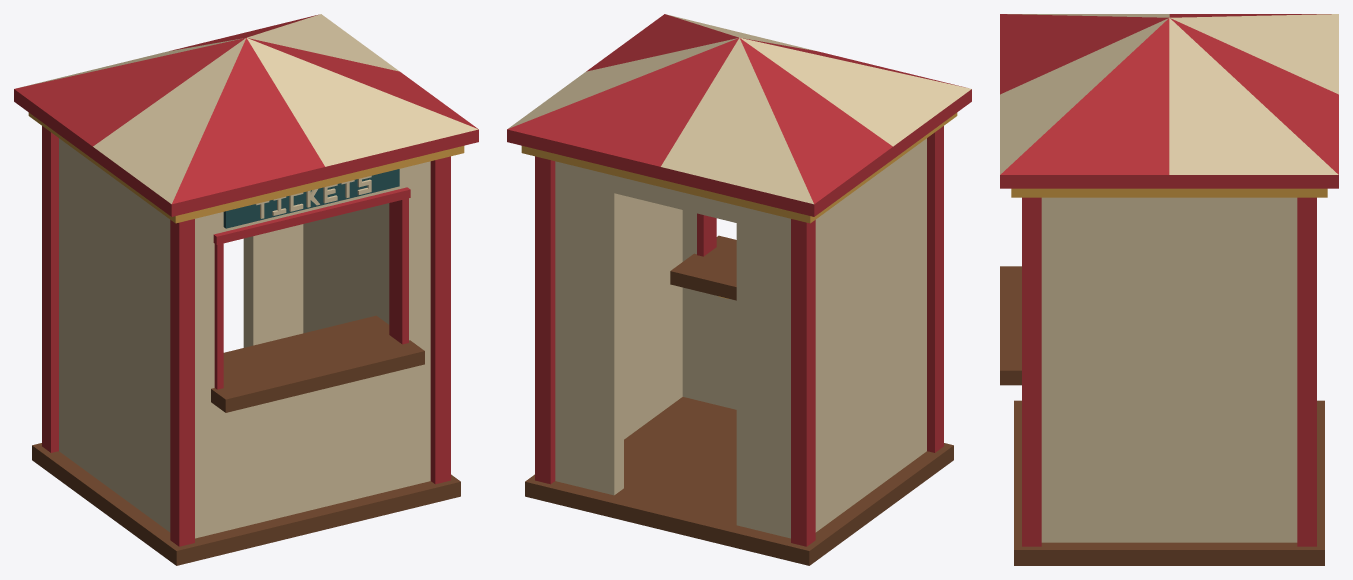
3 renders of one model, left to right at view 1: azimuth 30°, elevation 25°; view 2: azimuth 150°, elevation 25°; view 3: azimuth 270°, elevation 25°, orthographic. The views are drawn at different scales.
Parts seen in each view (by area): view 1: Body_ThickOpenWallShell, Roof_StripedHipSolid, Counter_InsideAndHandover, Base_GroundPlinth, Post_LeftFront, Post_RightFront, Post_LeftBack, Roof_ThickCeilingCornice, WindowFrame_Right, Sign_SeatedBoard, WindowFrame_Header, WindowFrame_Left; view 2: Body_ThickOpenWallShell, Roof_StripedHipSolid, Base_GroundPlinth, Post_LeftBack, Post_RightBack, Post_LeftFront, Roof_ThickCeilingCornice, Counter_InsideAndHandover, WindowFrame_Right; view 3: Body_ThickOpenWallShell, Roof_StripedHipSolid, Base_GroundPlinth, Post_RightBack, Post_RightFront, Roof_ThickCeilingCornice, Counter_InsideAndHandover.
Part boxes in pixels (left/top/right/bottom): Body_ThickOpenWallShell: left=59, top=138, right=430, bottom=538; Roof_StripedHipSolid: left=14, top=14, right=478, bottom=216; Counter_InsideAndHandover: left=211, top=315, right=424, bottom=412; Base_GroundPlinth: left=32, top=443, right=460, bottom=565; Post_LeftFront: left=170, top=219, right=194, bottom=546; Post_RightFront: left=430, top=156, right=450, bottom=484; Post_LeftBack: left=42, top=126, right=58, bottom=452; Roof_ThickCeilingCornice: left=28, top=112, right=464, bottom=223; WindowFrame_Right: left=389, top=198, right=408, bottom=344; Sign_SeatedBoard: left=223, top=169, right=399, bottom=228; WindowFrame_Header: left=213, top=187, right=410, bottom=244; WindowFrame_Left: left=214, top=243, right=223, bottom=389; Body_ThickOpenWallShell: left=555, top=138, right=926, bottom=538; Roof_StripedHipSolid: left=507, top=14, right=971, bottom=216; Base_GroundPlinth: left=525, top=397, right=953, bottom=565; Post_LeftBack: left=791, top=219, right=815, bottom=546; Post_RightBack: left=535, top=156, right=555, bottom=484; Post_LeftFront: left=927, top=126, right=943, bottom=452; Roof_ThickCeilingCornice: left=521, top=112, right=957, bottom=223; Counter_InsideAndHandover: left=670, top=235, right=736, bottom=300; WindowFrame_Right: left=697, top=213, right=716, bottom=256; Body_ThickOpenWallShell: left=1041, top=197, right=1297, bottom=542; Roof_StripedHipSolid: left=1000, top=14, right=1338, bottom=188; Base_GroundPlinth: left=1014, top=400, right=1324, bottom=565; Post_RightBack: left=1297, top=197, right=1316, bottom=546; Post_RightFront: left=1022, top=197, right=1041, bottom=546; Roof_ThickCeilingCornice: left=1011, top=188, right=1327, bottom=197; Counter_InsideAndHandover: left=1000, top=266, right=1021, bottom=385.
Bounding box in the file's own units: 2.16 × 2.96 × 1.92.
